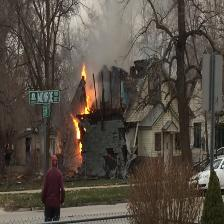fire: (72, 117, 83, 145), (86, 95, 90, 115), (82, 62, 86, 80)
smoke: (99, 24, 128, 64)
